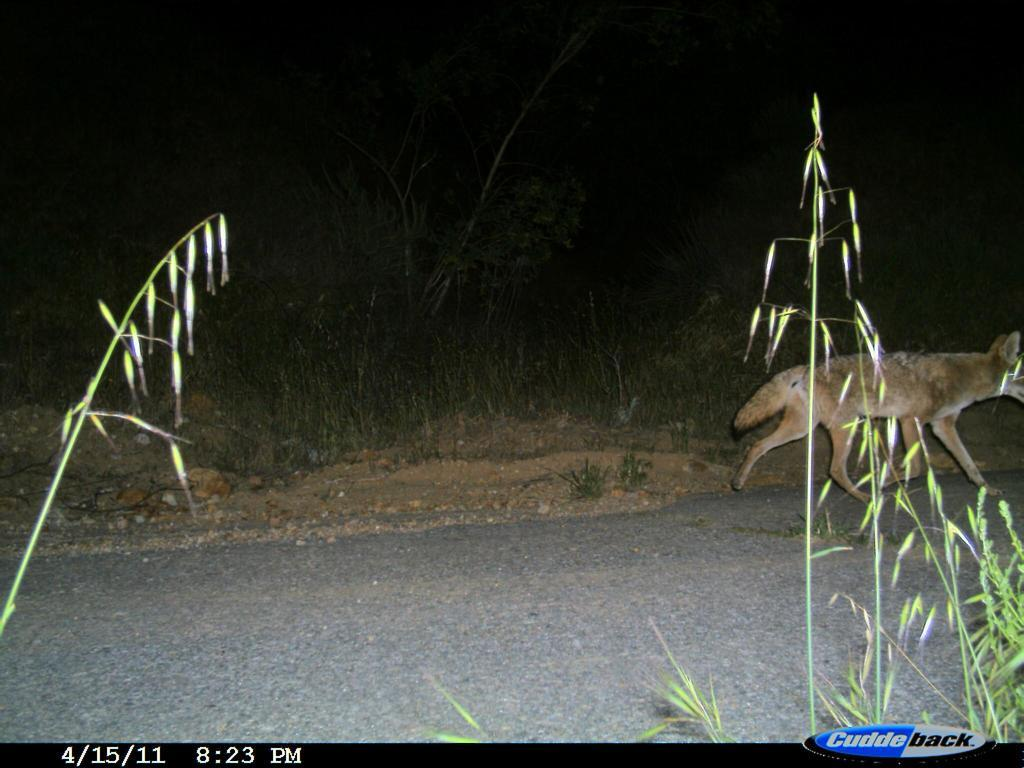coyote: (719, 317, 1024, 514)
